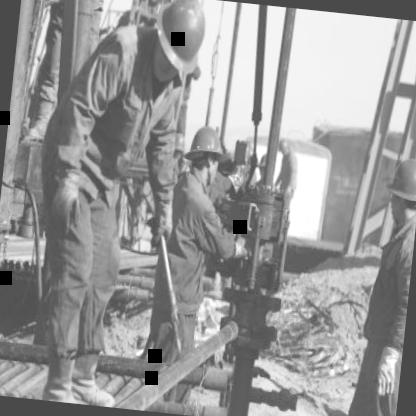helmet: (148, 0, 214, 96), (182, 120, 230, 188), (384, 154, 416, 231), (275, 134, 294, 161)
